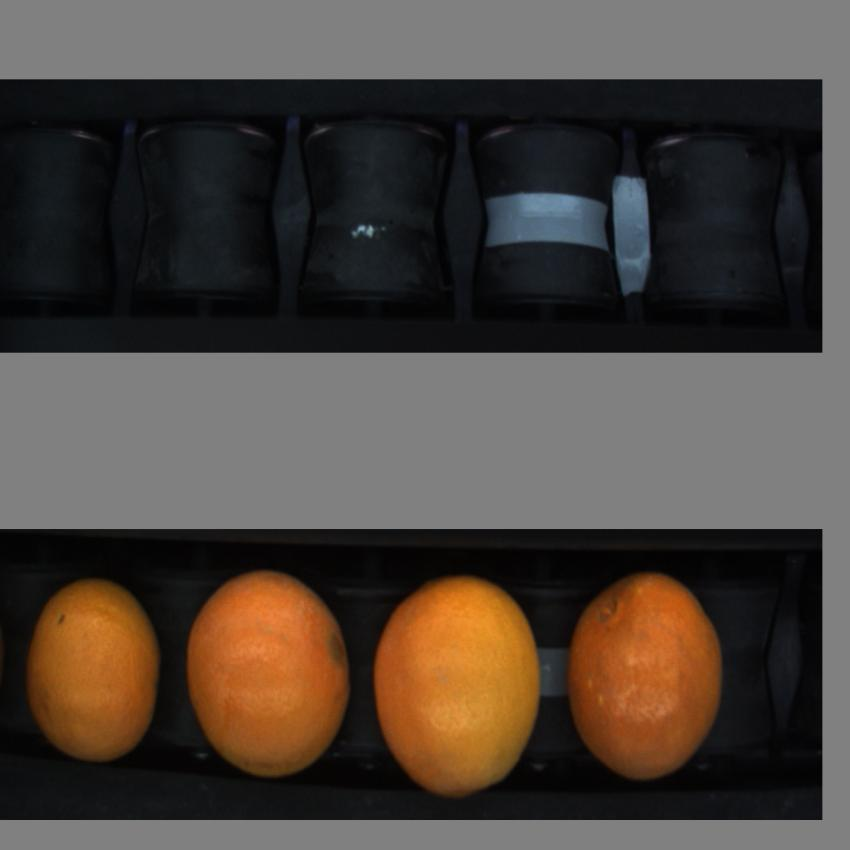Buen estado: (179, 574, 361, 778), (370, 582, 544, 794), (26, 569, 160, 775)
Mal estado: (567, 576, 728, 781)
